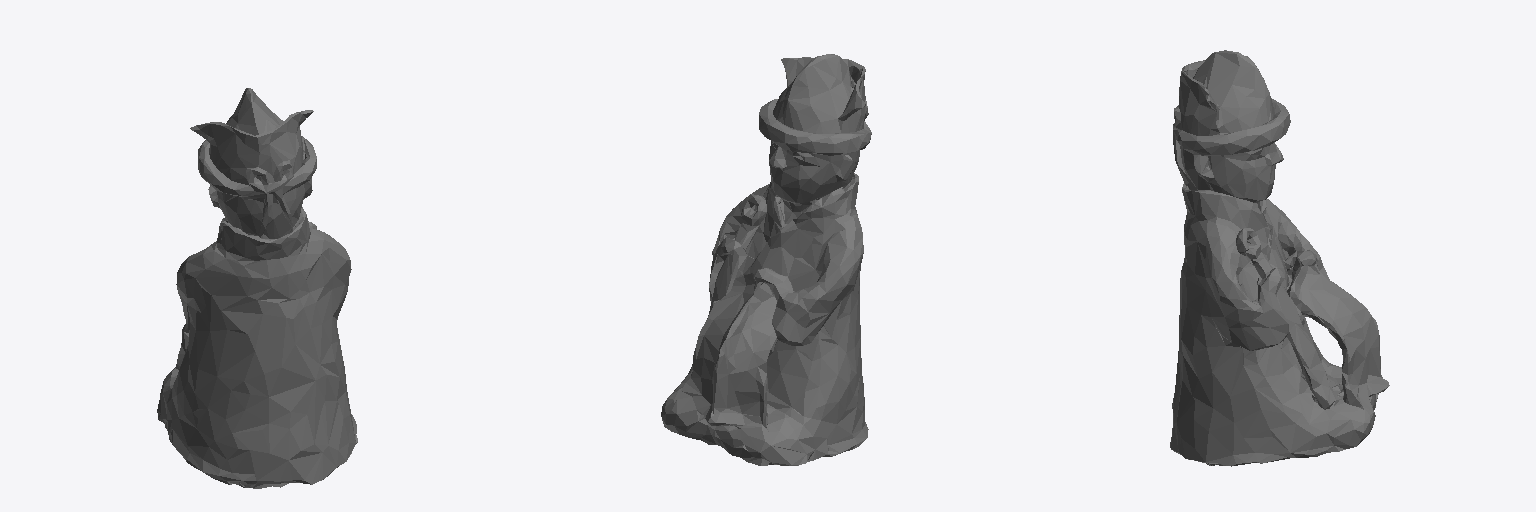
3 renders of one model, left to right at view 1: azimuth 30°, elevation 25°; view 2: azimuth 150°, elevation 25°; view 3: azimuth 270°, elevation 25°, orthographic.
Parts seen in each view (by area): view 1: Polygonal_Model_1 Triangles_1; view 2: Polygonal_Model_1 Triangles_1; view 3: Polygonal_Model_1 Triangles_1.
Part boxes in pixels (left/top/right/bottom): Polygonal_Model_1 Triangles_1: left=157, top=88, right=357, bottom=488; Polygonal_Model_1 Triangles_1: left=661, top=54, right=871, bottom=465; Polygonal_Model_1 Triangles_1: left=1170, top=50, right=1389, bottom=466.
Size of the model in its own units: 1.63 by 3.63 by 1.9.